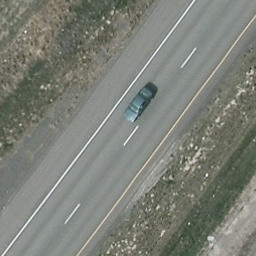car: (119, 86, 156, 125)
